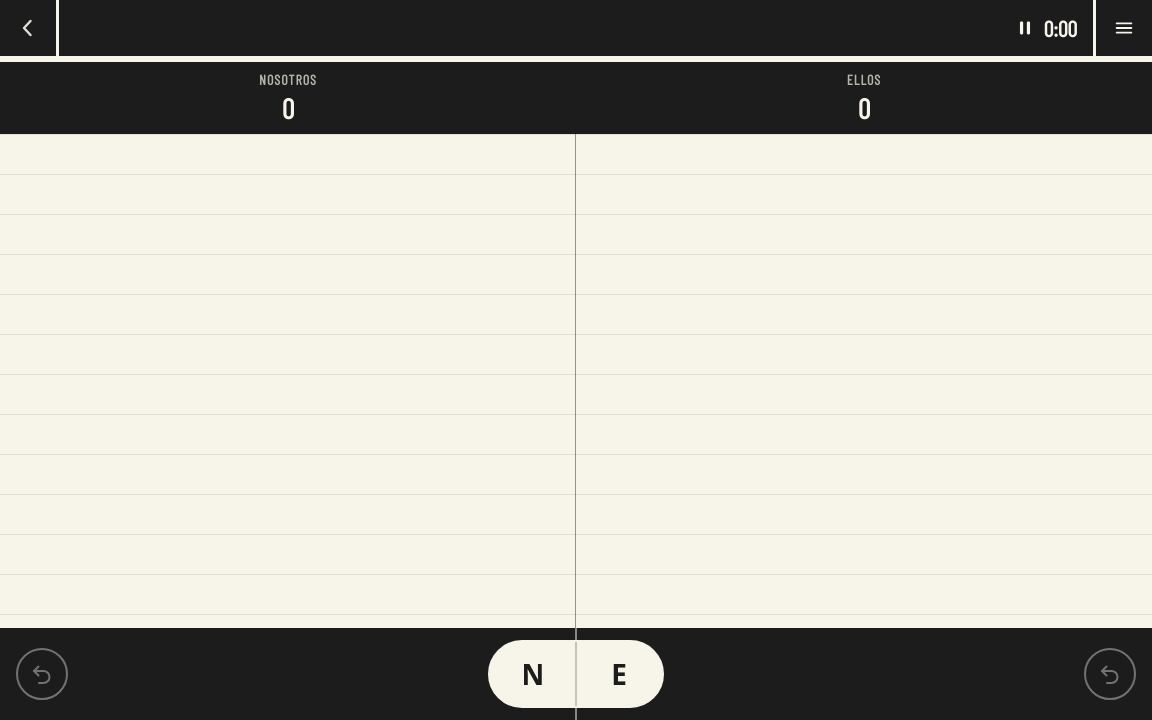
Scenario: flujo completo de partida › muestra el cronómetro y permite pausar y reanudar sin cartel ni bloqueo
Expected: the text with test id "timer-value" shows "0:0", top-left (1044, 15), bottom-right (1077, 41)
Click the button named "pausar partida" at (1045, 28), box top-left (1014, 15), bottom-right (1077, 41)
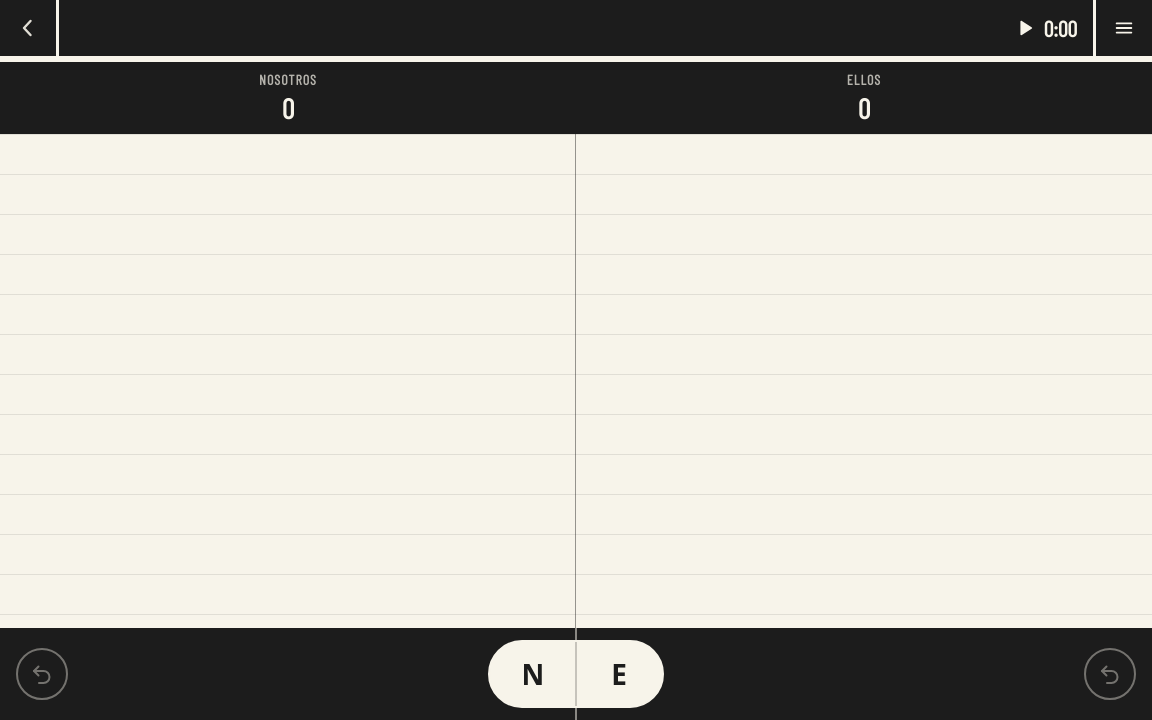
Expected: the button "N" is enabled, top-left (490, 642), bottom-right (576, 706)
Expected: the button named "reanudar partida" is shown
Click the button named "reanudar partida" at (1045, 28), box top-left (1014, 15), bottom-right (1077, 41)
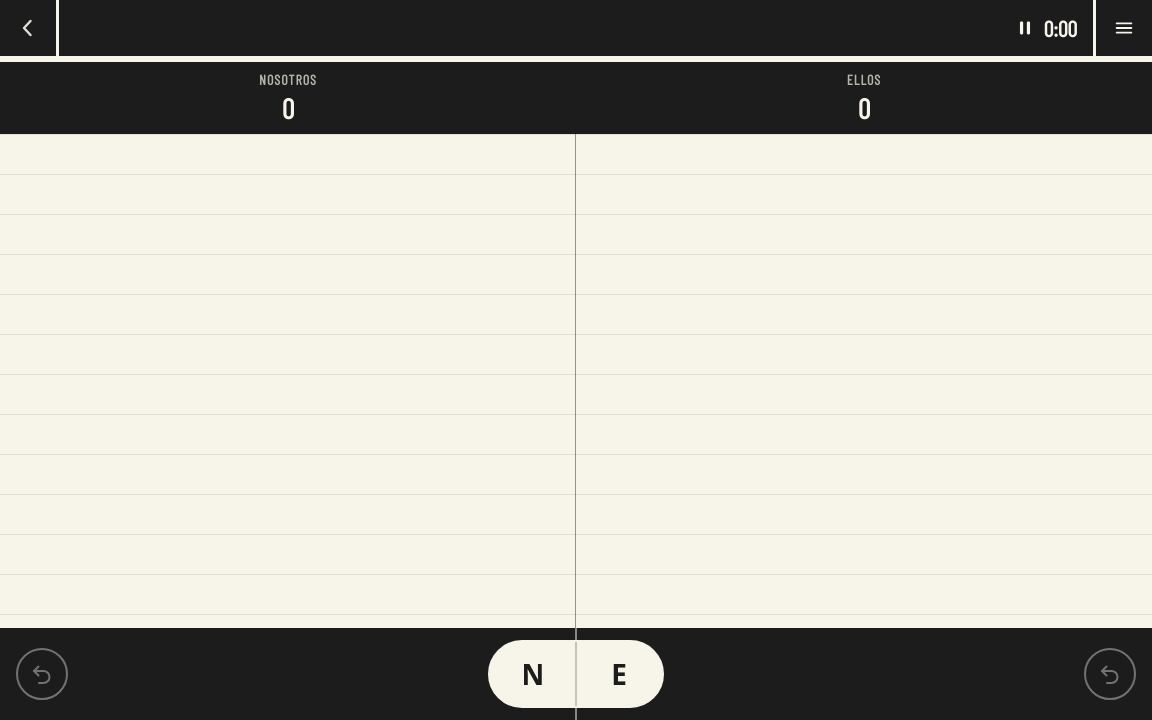
Expected: the button named "pausar partida" is shown, top-left (1014, 15), bottom-right (1077, 41)
